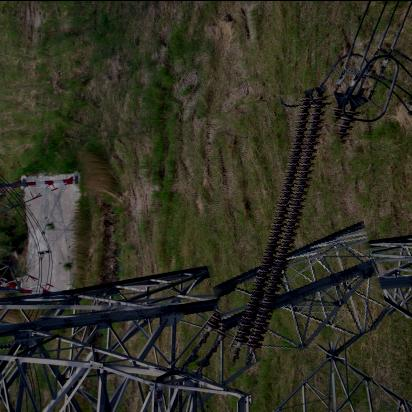insulator: (186, 93, 378, 359)
